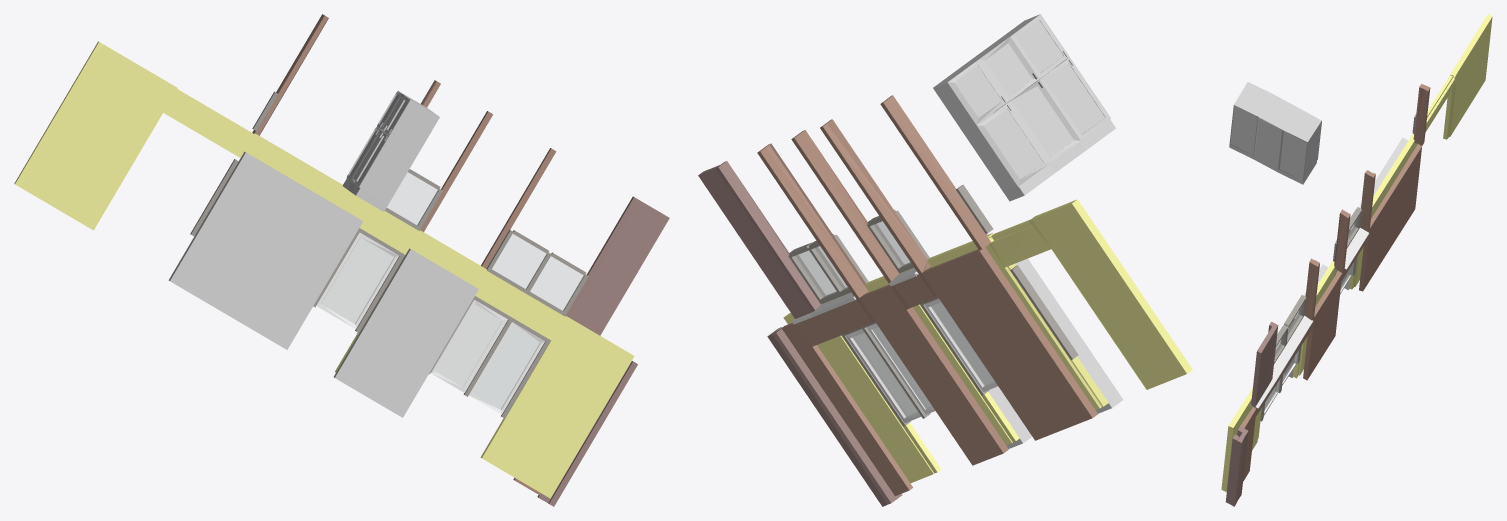
3 views of the same model, side by side, from view 1: azimuth 30°, elevation 25°; view 2: azimuth 150°, elevation 25°; view 3: azimuth 270°, elevation 25° (orthographic). The views are drawn at different scales.
Parts seen in each view (by area): view 1: mesh; view 2: mesh; view 3: mesh.
Boxes of the visible parts, x1=… form: mesh: x1=14, y1=14, x2=669, y2=506; mesh: x1=698, y1=14, x2=1192, y2=506; mesh: x1=1221, y1=14, x2=1492, y2=506.
Bounding box in the file's own units: 11 × 8.78 × 5.77.
